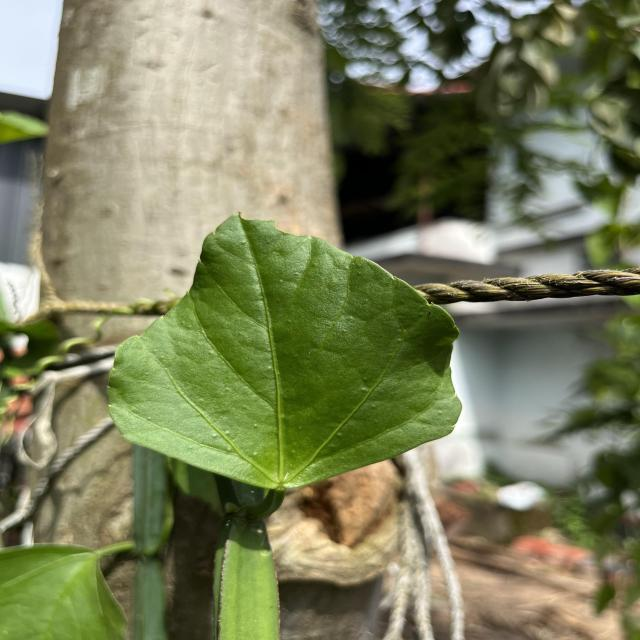Cissus quadrangularis: (104, 207, 466, 492)
